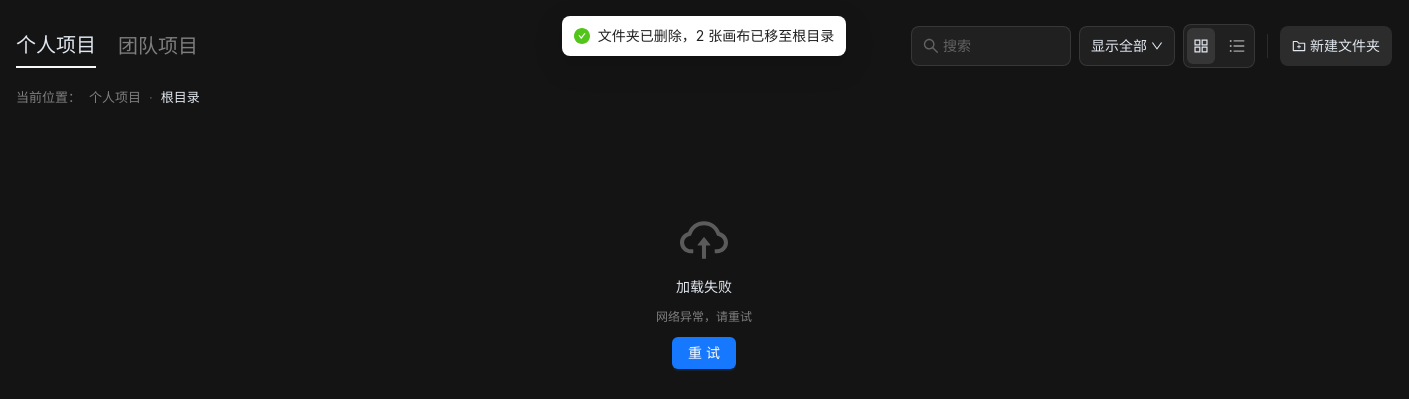
Test: WorkspacePage › 加载失败显示错误空态，重试成功
This screenshot has width=1409, height=399.
Expected: the element with test id "empty-state-error" is shown, [656,216,752,368]
Click the button "重 试".
click(704, 352)  # box [672,336,736,368]
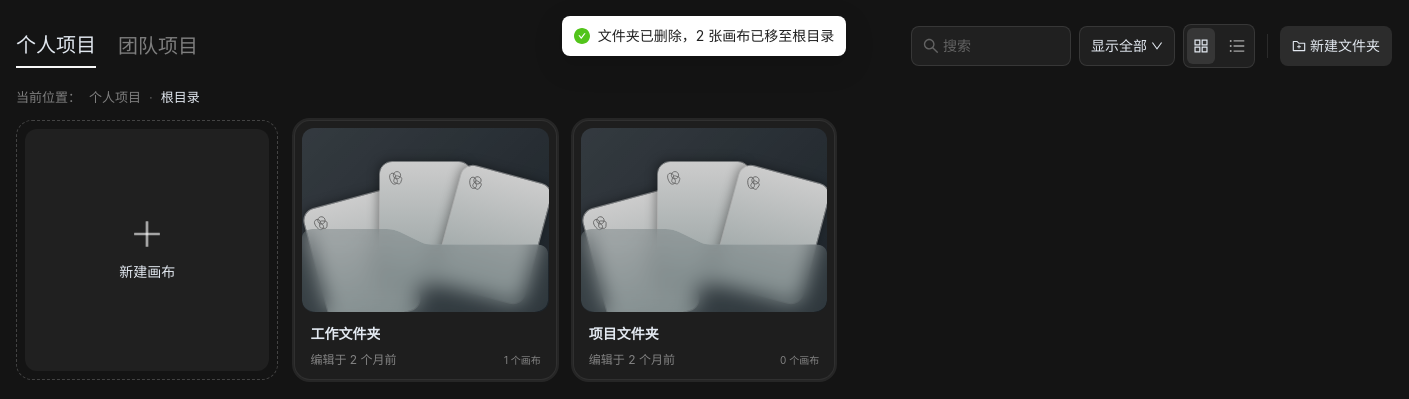
Expected: the button with test id "folder-card-f1" is shown, [294,120,557,380]
